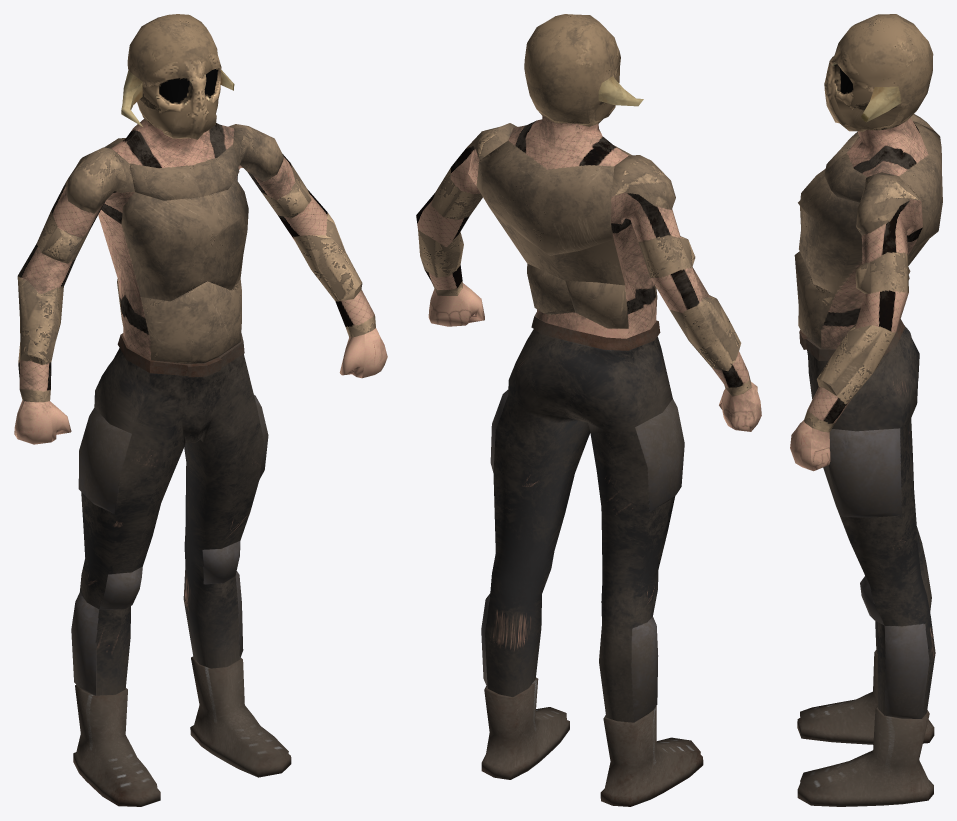
File: Anim_idle_npc1.0041.obj
3 views of the same model, side by side, from view 1: azimuth 30°, elevation 25°; view 2: azimuth 150°, elevation 25°; view 3: azimuth 270°, elevation 25° (orthographic).
Visible parts, largest first — view 1: NPC2; view 2: NPC2; view 3: NPC2.
Boxes of the visible parts, x1,y1,x2,y2 form: NPC2: [14, 14, 387, 806]; NPC2: [416, 14, 761, 806]; NPC2: [790, 14, 942, 806].
Size of the model in its own units: 4.69 by 9.67 by 1.79.
